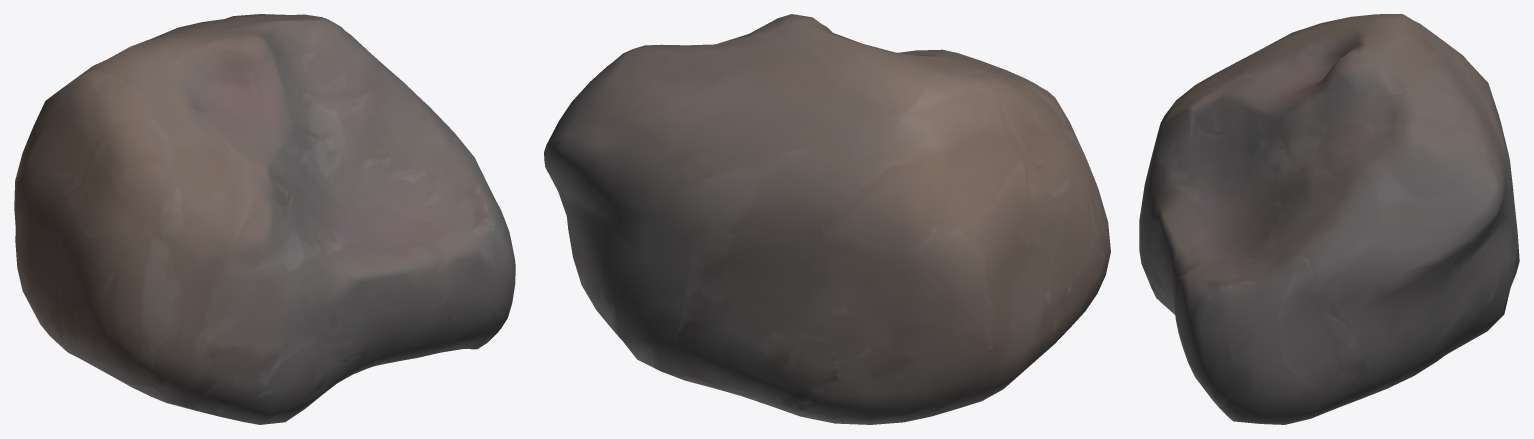
The model's file is stone(B).fbx.
The picture shows the model from 3 angles, left to right: view 1: azimuth 30°, elevation 25°; view 2: azimuth 150°, elevation 25°; view 3: azimuth 270°, elevation 25°; orthographic projection. The views are drawn at different scales.
Parts seen in each view (by area): view 1: PM3D_Cube3D1; view 2: PM3D_Cube3D1; view 3: PM3D_Cube3D1.
Part boxes in pixels (left/top/right/bottom): PM3D_Cube3D1: left=14, top=14, right=515, bottom=424; PM3D_Cube3D1: left=544, top=14, right=1110, bottom=424; PM3D_Cube3D1: left=1139, top=14, right=1519, bottom=424.
Size of the model in its own units: 41.97 by 29.83 by 35.46.
Materials: 1 (1 with a texture image).
